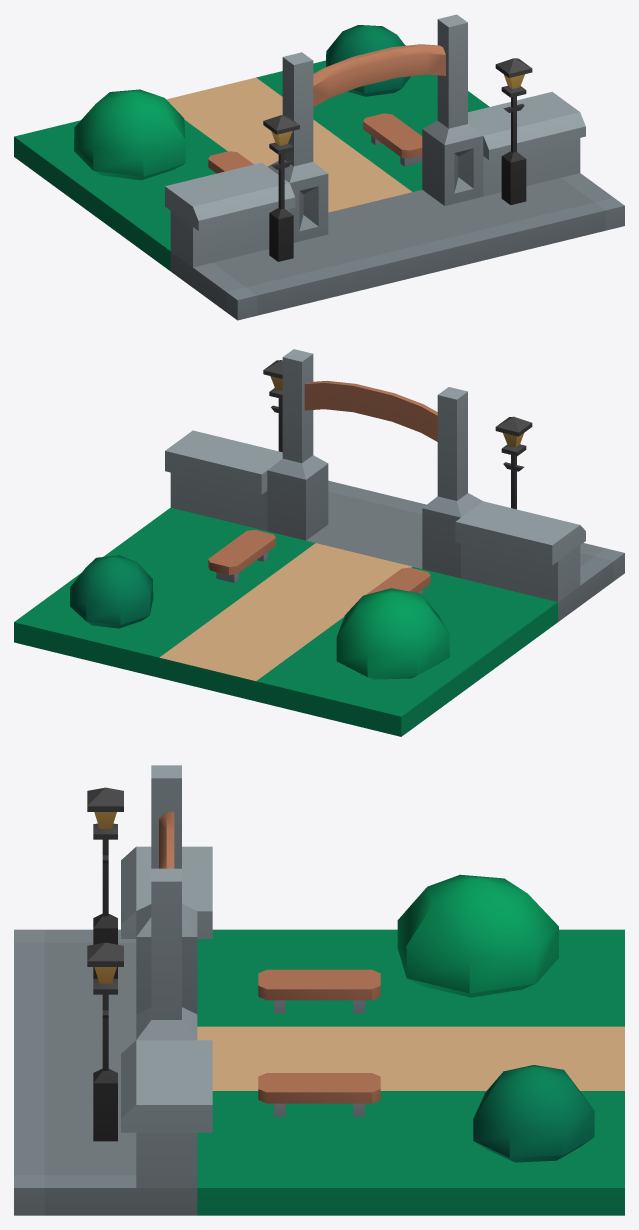
Rendered from park_wall_entry_decorated.glb.
The picture shows the model from 3 angles, top to bottom: view 1: azimuth 30°, elevation 25°; view 2: azimuth 150°, elevation 25°; view 3: azimuth 270°, elevation 25°; orthographic projection. The views are drawn at different scales.
Visible parts, largest first — view 1: park_wall_entry_decorated; view 2: park_wall_entry_decorated; view 3: park_wall_entry_decorated.
Part boxes in pixels (x1=…): park_wall_entry_decorated: x1=14, y1=14, x2=624, y2=320; park_wall_entry_decorated: x1=14, y1=349, x2=624, y2=736; park_wall_entry_decorated: x1=14, y1=765, x2=624, y2=1215.
Size of the model in its own units: 2 by 0.95 by 2.
Materials: 1 (1 with a texture image).
